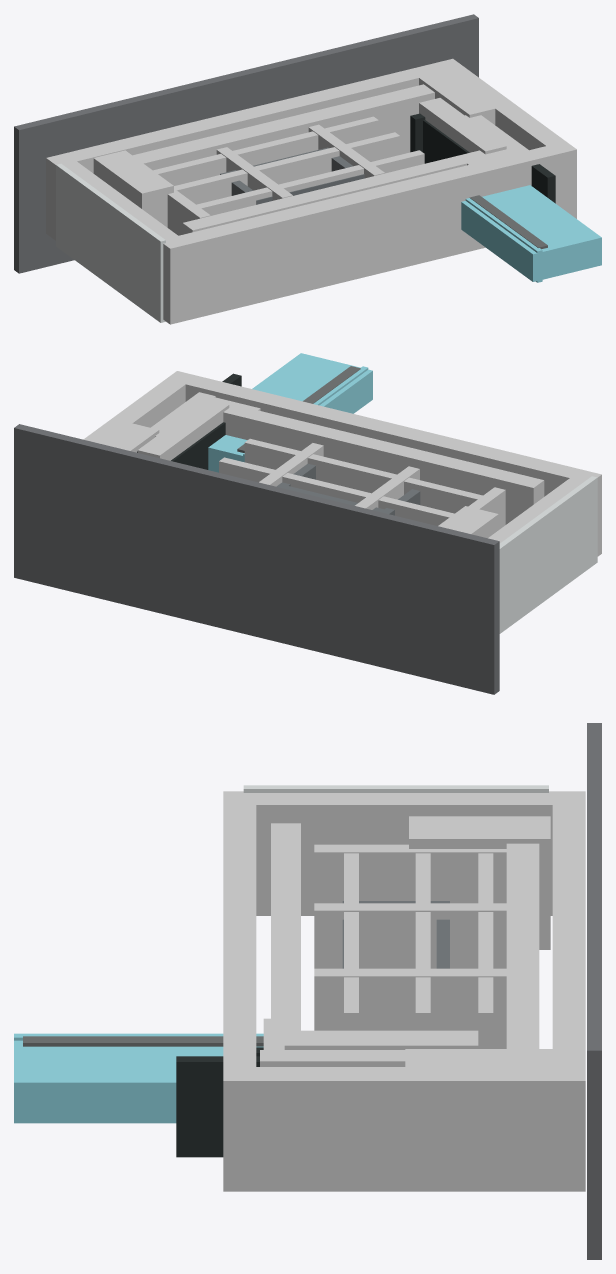
Rendered from gealan-profile.glb.
3 renders of one model, top to bottom at view 1: azimuth 30°, elevation 25°; view 2: azimuth 150°, elevation 25°; view 3: azimuth 270°, elevation 25°, orthographic. The views are drawn at different scales.
Visible parts, largest first — view 1: Profile_TopRail, Presentation_Base, Profile_CutawayFace, Profile_BottomRail, Glazing_MainPane, Profile_InnerBottom, Profile_ChamberWeb_H_2, Profile_InnerTop, Profile_ChamberWeb_H_1, Profile_InnerStep, Profile_RightRail, Profile_ChamberWeb_H_3 (+13 smaller); view 2: Presentation_Base, Profile_InnerTop, Profile_CutawayFace, Profile_TopRail, Glazing_MainPane, Profile_ChamberWeb_H_3, Profile_ChamberWeb_H_2, Profile_GlassPocket, Profile_RightRail, Profile_LeftRail, Profile_OuterStep, Profile_InnerStep (+6 smaller); view 3: Profile_RightRail, Profile_BottomRail, Profile_TopRail, Glazing_MainPane, Profile_LeftRail, Profile_ChamberWeb_3, Profile_ChamberWeb_2, Profile_ChamberWeb_1, Presentation_Base, Profile_InnerBottom, Profile_InnerTop, Profile_InnerStep (+10 smaller).
Part boxes in pixels (x1,y1,x2,y2): Profile_TopRail: (163, 143, 576, 324); Presentation_Base: (14, 14, 478, 273); Profile_CutawayFace: (56, 163, 165, 322); Profile_BottomRail: (46, 58, 463, 239); Glazing_MainPane: (461, 185, 601, 281); Profile_InnerBottom: (132, 84, 434, 170); Profile_ChamberWeb_H_2: (174, 132, 400, 204); Profile_InnerTop: (182, 144, 521, 234); Profile_ChamberWeb_H_1: (153, 116, 378, 185); Profile_InnerStep: (93, 150, 173, 227); Profile_RightRail: (442, 65, 568, 150); Profile_ChamberWeb_H_3: (196, 150, 424, 215); Presentation_Base: (14, 424, 499, 694); Profile_InnerTop: (190, 396, 544, 524); Profile_CutawayFace: (499, 476, 597, 633); Profile_TopRail: (166, 371, 601, 556); Glazing_MainPane: (208, 353, 372, 472); Profile_ChamberWeb_H_3: (244, 438, 482, 513); Profile_ChamberWeb_H_2: (219, 457, 454, 525); Profile_GlassPocket: (137, 399, 229, 460); Profile_RightRail: (83, 377, 185, 441); Profile_LeftRail: (488, 476, 587, 543); Profile_OuterStep: (92, 420, 159, 452); Profile_InnerStep: (438, 506, 498, 538); Profile_RightRail: (247, 1067, 561, 1191); Profile_BottomRail: (552, 791, 585, 1191); Profile_TopRail: (223, 791, 256, 1191); Glazing_MainPane: (14, 1033, 263, 1123); Profile_LeftRail: (248, 791, 560, 915); Profile_ChamberWeb_3: (314, 968, 506, 1048); Profile_ChamberWeb_2: (314, 903, 506, 968); Profile_ChamberWeb_1: (314, 844, 506, 903); Presentation_Base: (587, 723, 601, 1259); Profile_InnerBottom: (506, 843, 539, 1048); Profile_InnerTop: (271, 823, 300, 1057); Profile_InnerStep: (409, 816, 550, 949).
Bounding box in the file's own units: 5.2 × 1.55 × 3.95.
